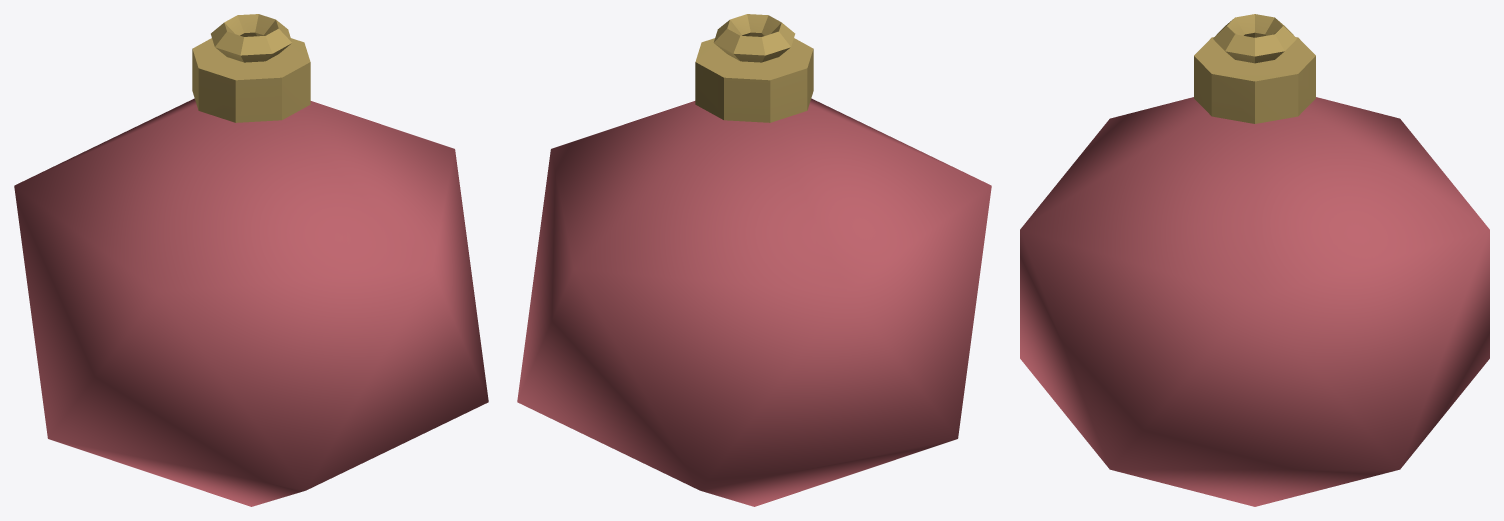
The model's file is resident_bauble_red_low.glb.
3 renders of one model, left to right at view 1: azimuth 30°, elevation 25°; view 2: azimuth 150°, elevation 25°; view 3: azimuth 270°, elevation 25°, orthographic.
Bounding box in the file's own units: 1 × 1.13 × 1.
